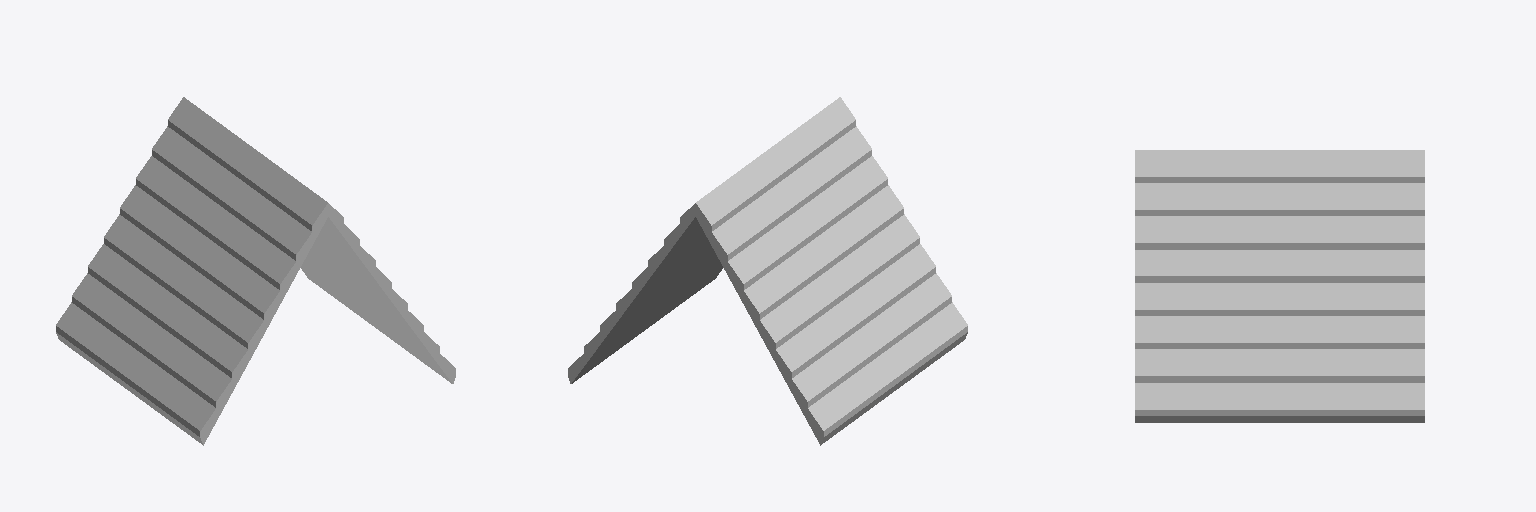
Rendered from cabinRoofCenter.obj.
3 renders of one model, left to right at view 1: azimuth 30°, elevation 25°; view 2: azimuth 150°, elevation 25°; view 3: azimuth 270°, elevation 25°, orthographic.
Parts seen in each view (by area): view 1: cabinRoofCenter; view 2: cabinRoofCenter; view 3: cabinRoofCenter.
Boxes of the visible parts, x1,y1,x2,y2 form: cabinRoofCenter: [56, 97, 455, 445]; cabinRoofCenter: [568, 97, 967, 445]; cabinRoofCenter: [1135, 150, 1424, 422].
Bounding box in the file's own units: 1.21 × 0.9559 × 1.18.